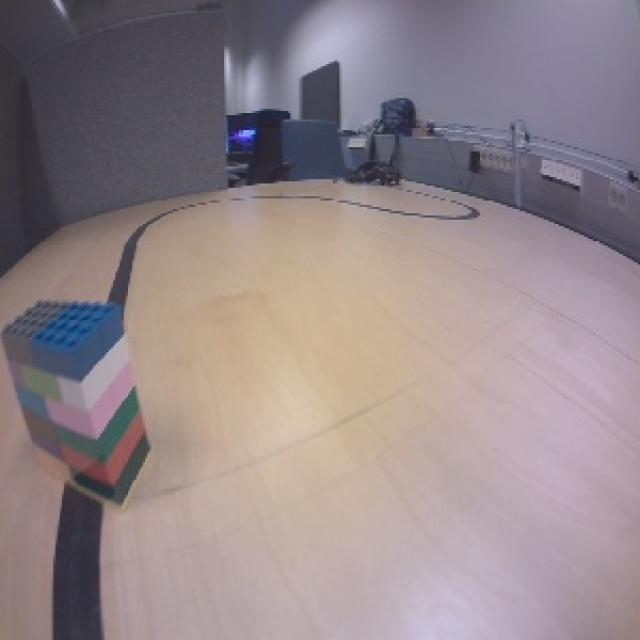obstacle: (2, 295, 158, 515)
